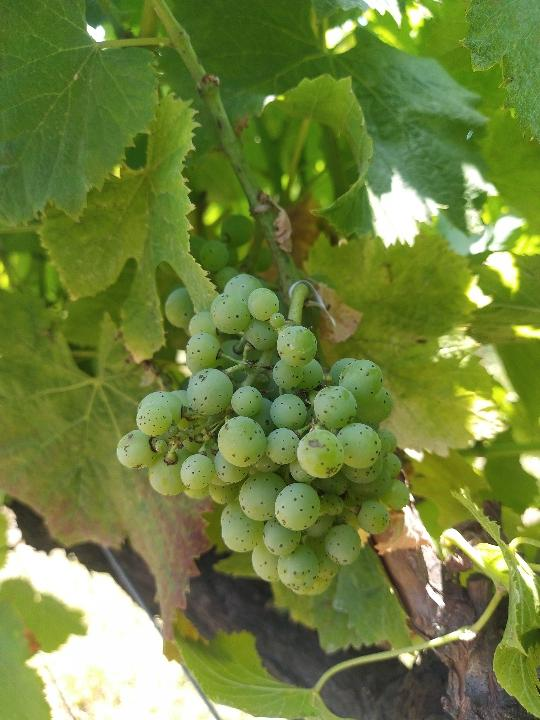grape: (115, 272, 410, 598)
